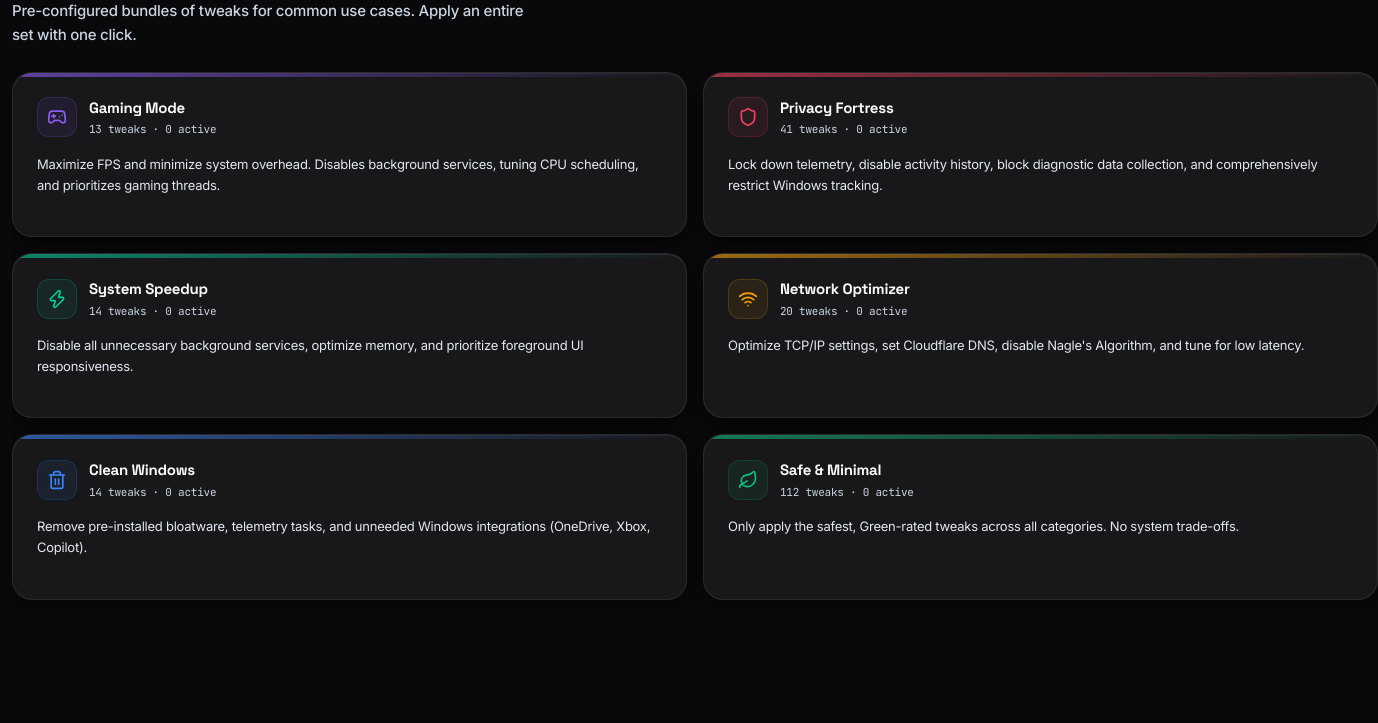
ProfilesPage › Apply button is visible in expanded profile
Click the heading "Safe & Minimal".
click(831, 470)  # box [780,460,881,479]
(page scrolled)
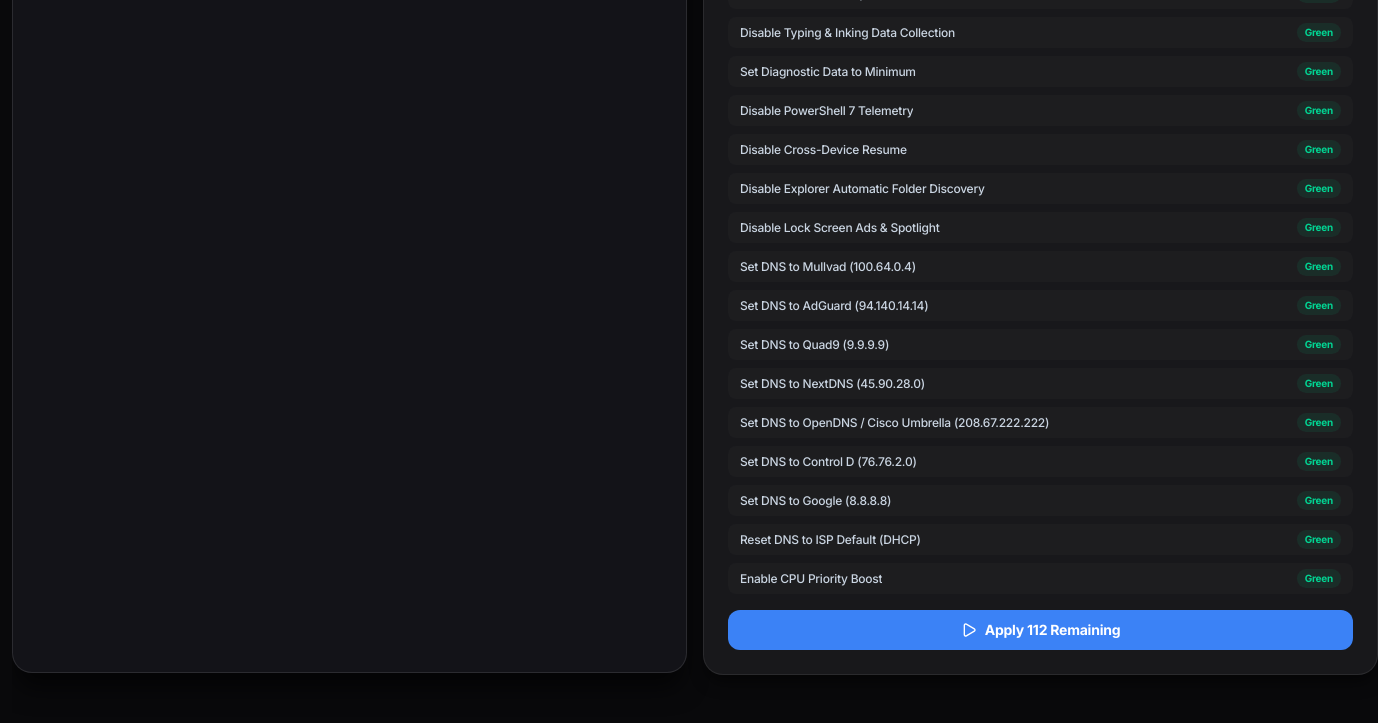
Now the button "Apply 112 Remaining" is shown, box [728,610,1353,650]
